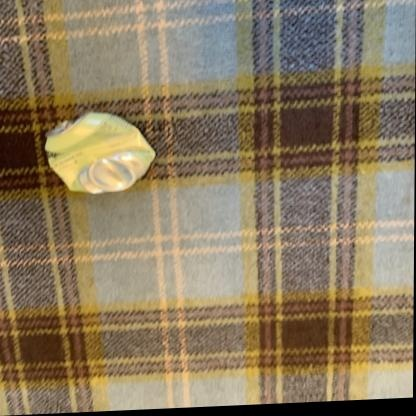trash: (45, 112, 154, 193)
